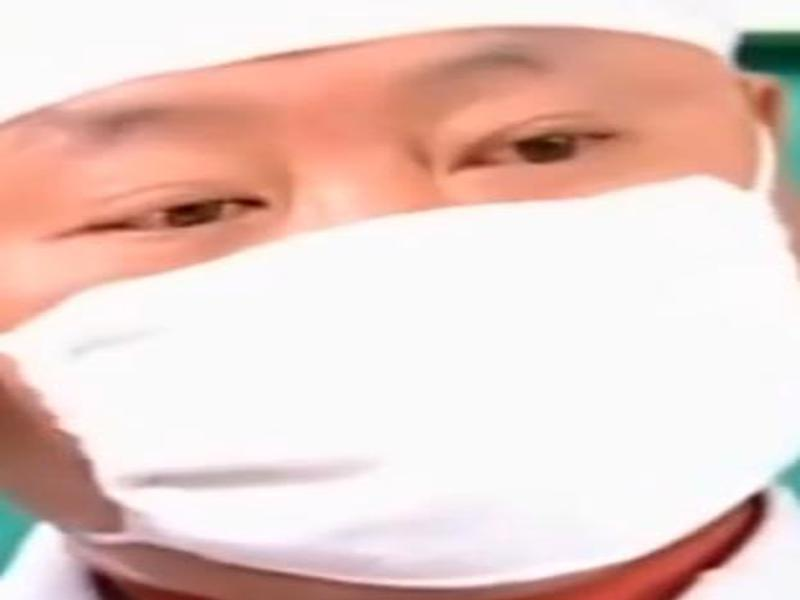with_mask: (1, 26, 794, 594)
